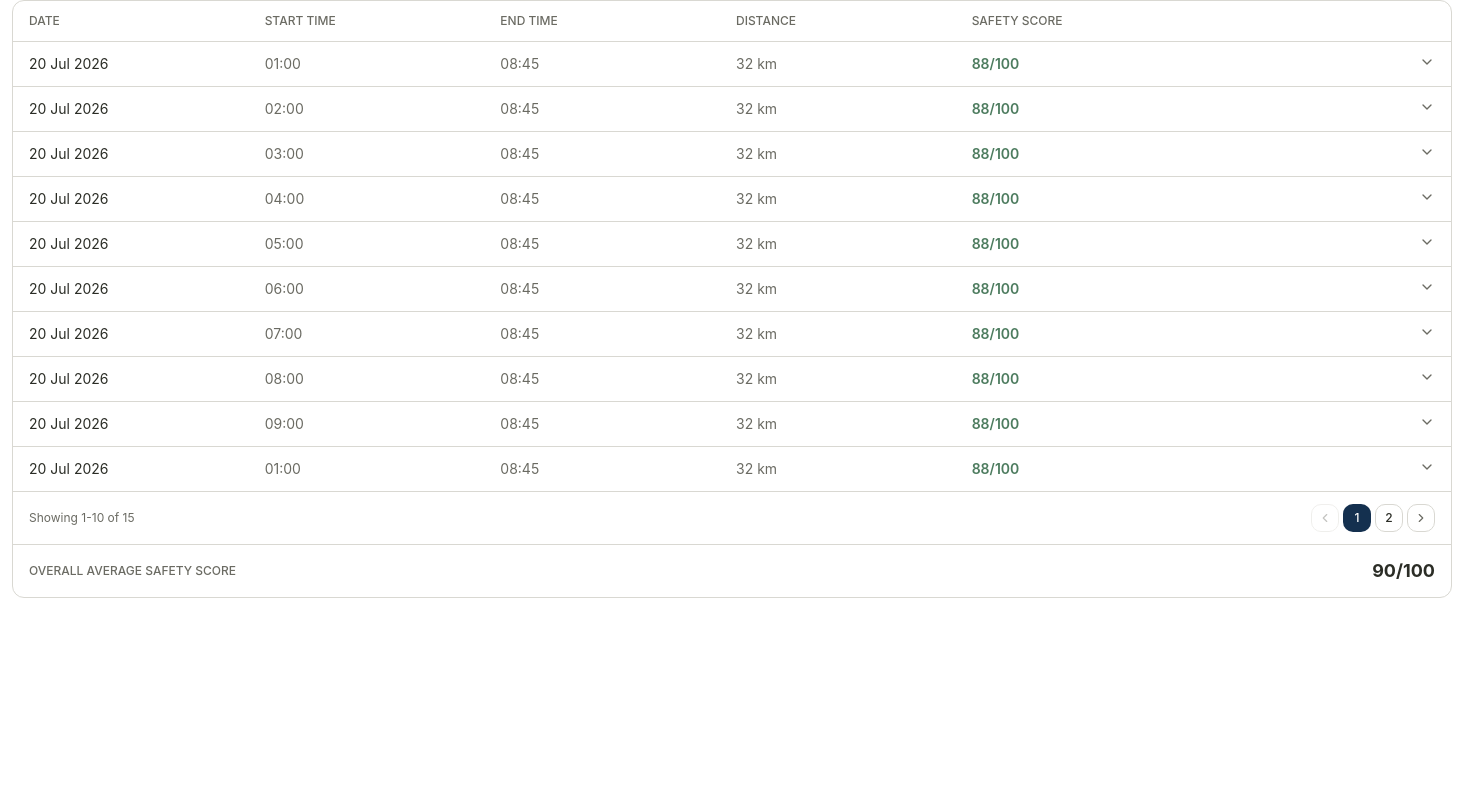
Scenario: TripHistoryList › navigates to a specific page when a button is clicked
What coordinates should you click on to do the following:
click the button with test id "trips-page-2"
I would click on:
 (1389, 518)
Its box is [1375,504,1403,532].
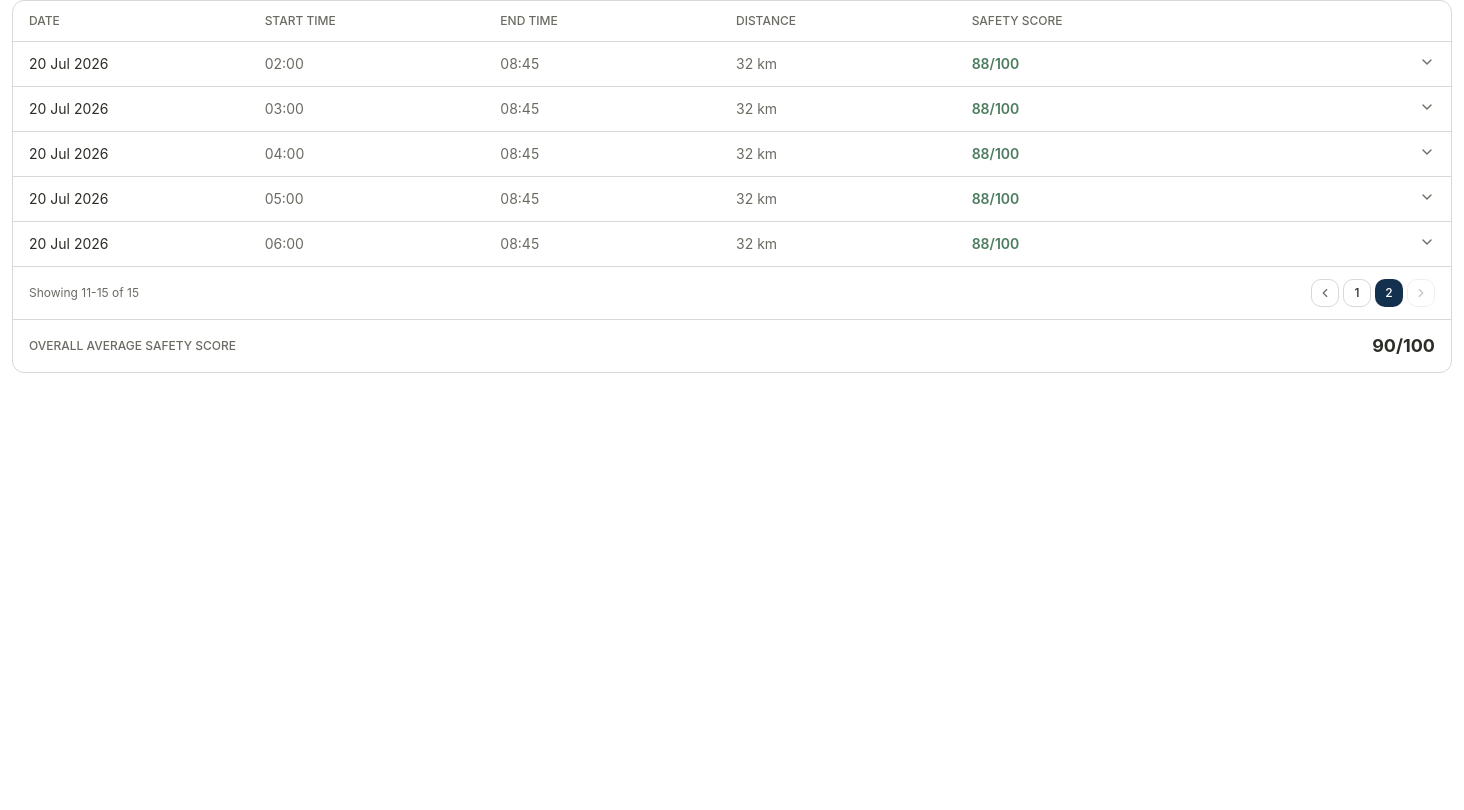
Now the text "Showing 11-15 of 15" is shown, box [29,285,139,301]
